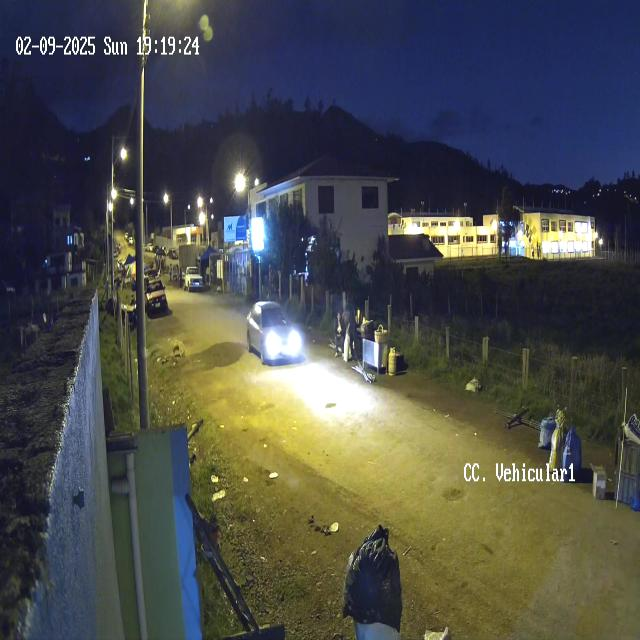SED: (246, 300, 300, 366)
